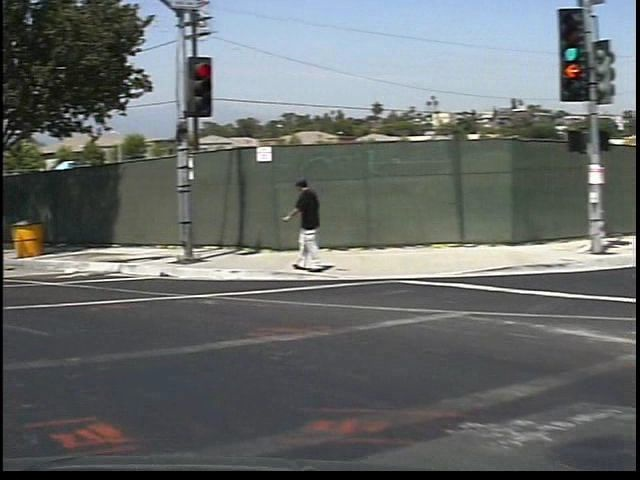person: (275, 168, 325, 285)
